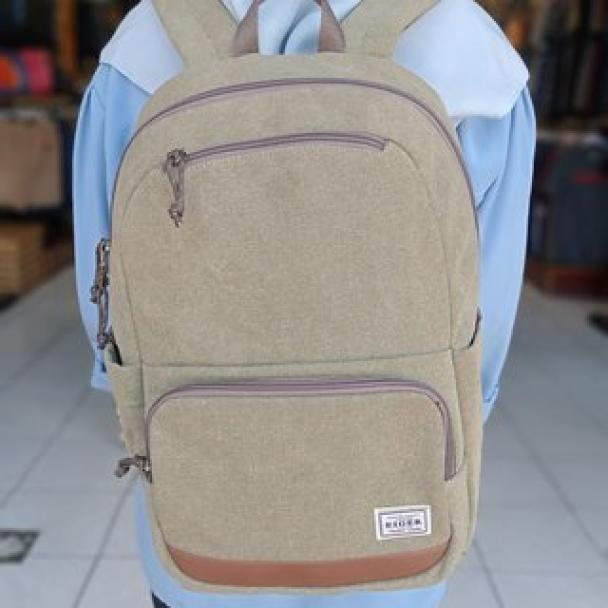Tas: (106, 55, 480, 590)
